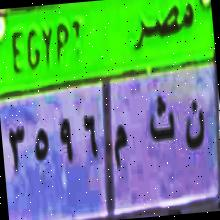3: (4, 120, 30, 182)
5: (31, 121, 52, 169)
6: (81, 108, 100, 170)
9: (58, 115, 75, 172)
meem: (107, 120, 131, 174)
noon: (181, 98, 209, 160)
thaa: (146, 86, 178, 148)
